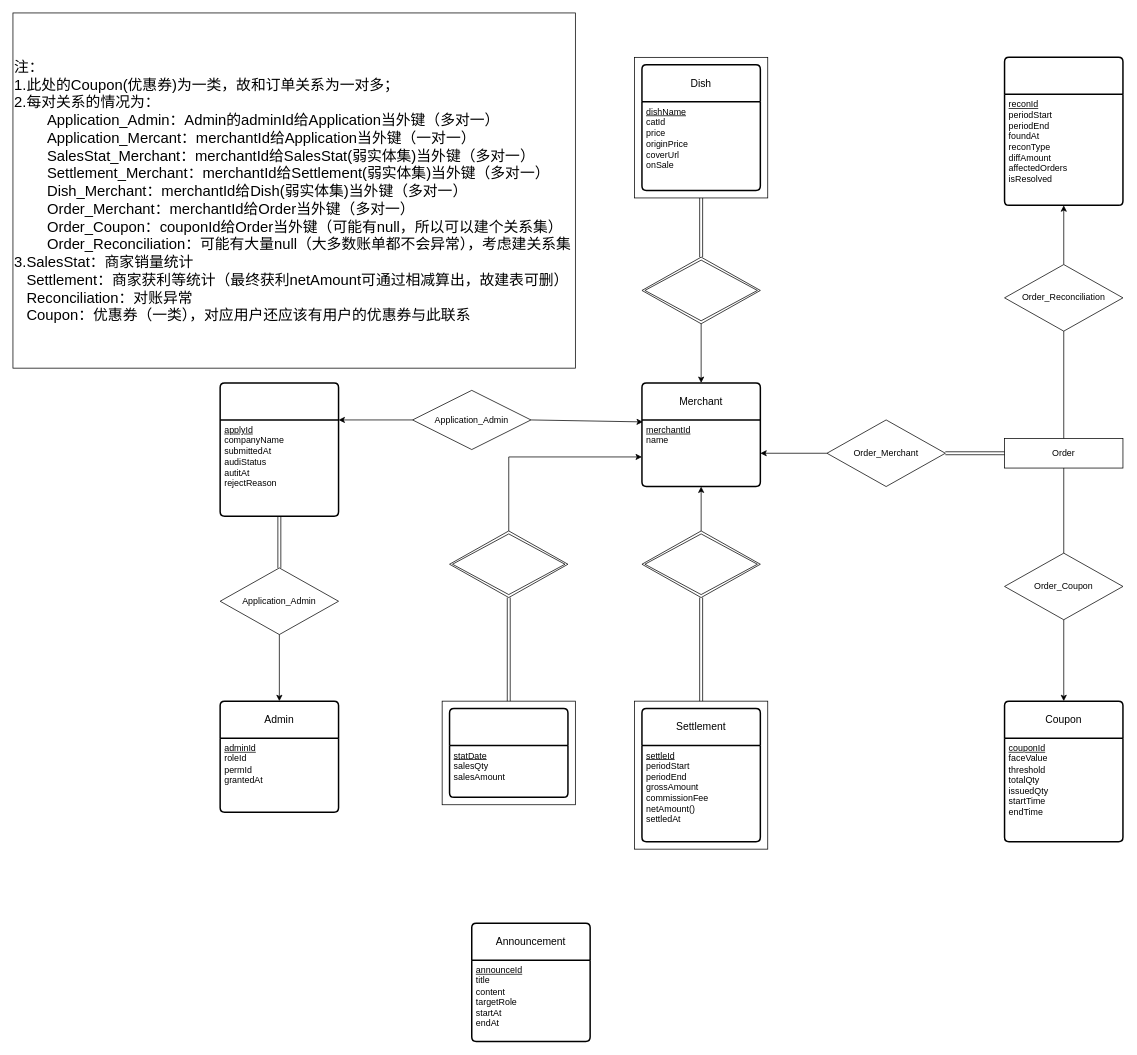
This 1137x1055 diagram has some shape labels left out. The box of each missing label's shape, as (x1, y1, x2, y2) in pixels:
Application: (219, 382, 339, 517)
Dish_Merchant: (641, 256, 760, 324)
Reconciliation: (1003, 56, 1123, 206)
SalesStat: (448, 707, 568, 798)
SalesStat_Merchant: (449, 530, 568, 598)
Settlement_Merchant: (641, 530, 760, 598)
